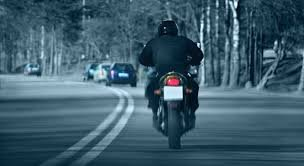motor: (143, 69, 212, 146)
